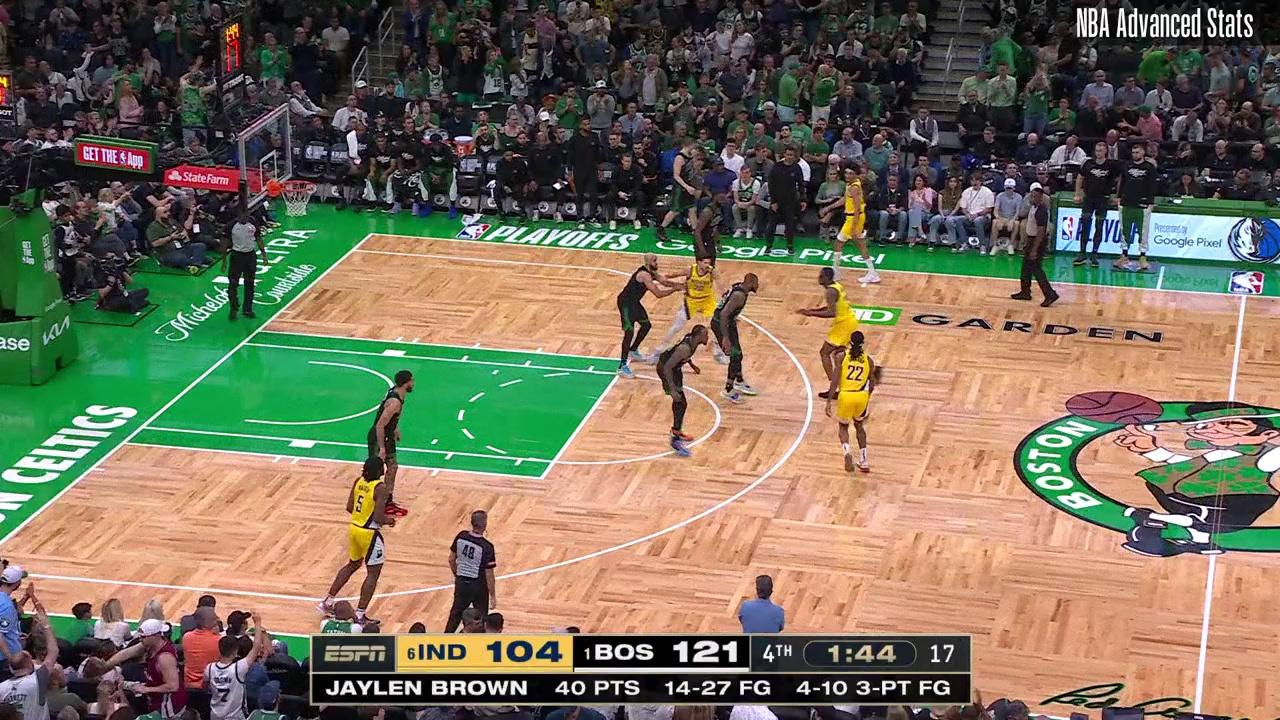3_dx: (347, 244, 357, 254)
b_dx: (365, 228, 376, 239)
free_asx: (536, 473, 549, 485)
free_bdx: (253, 326, 263, 336)
free_bsx: (117, 437, 130, 448)
half_dx: (1234, 286, 1253, 306)
mid_dx: (858, 283, 867, 291)
referee: (447, 510, 498, 627), (1015, 189, 1059, 308), (224, 209, 263, 317)
team: (362, 370, 413, 518), (658, 326, 712, 454), (717, 271, 759, 403), (619, 254, 658, 372), (694, 194, 726, 272)
team1: (328, 456, 386, 622), (810, 270, 858, 398), (832, 161, 880, 285), (832, 330, 872, 474), (668, 258, 723, 359)
timer: (820, 639, 906, 671)
